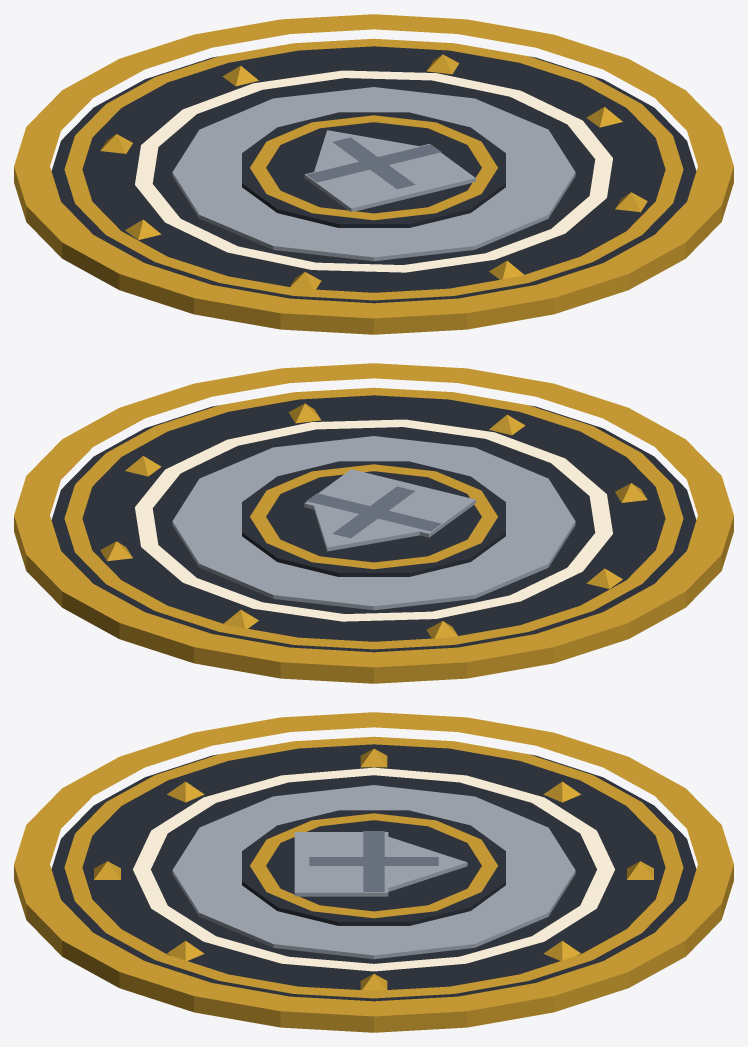
File: shield_knight_legend_area.glb
3 renders of one model, top to bottom at view 1: azimuth 30°, elevation 25°; view 2: azimuth 150°, elevation 25°; view 3: azimuth 270°, elevation 25°, orthographic.
Parts seen in each view (by area): view 1: shield_knight_legend_area; view 2: shield_knight_legend_area; view 3: shield_knight_legend_area.
Part boxes in pixels (<box>): shield_knight_legend_area: <box>14,14,733,334</box>; shield_knight_legend_area: <box>14,363,733,683</box>; shield_knight_legend_area: <box>14,712,733,1032</box>.
Bounding box in the file's own units: 2 × 0.06 × 2.
Materials: 2 (2 with a texture image).
